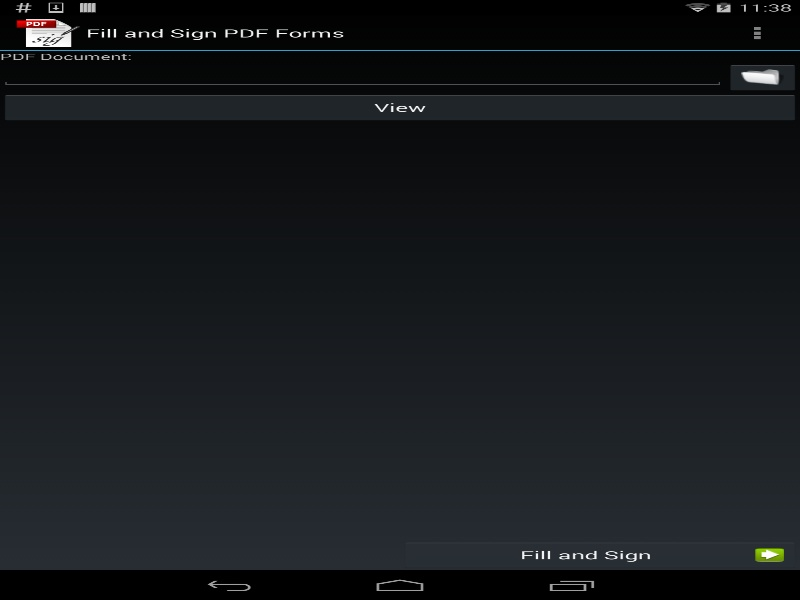Button: (0, 92, 800, 122), (400, 540, 800, 570), (714, 15, 800, 50), (725, 62, 800, 92)
Input: (0, 62, 725, 87)
